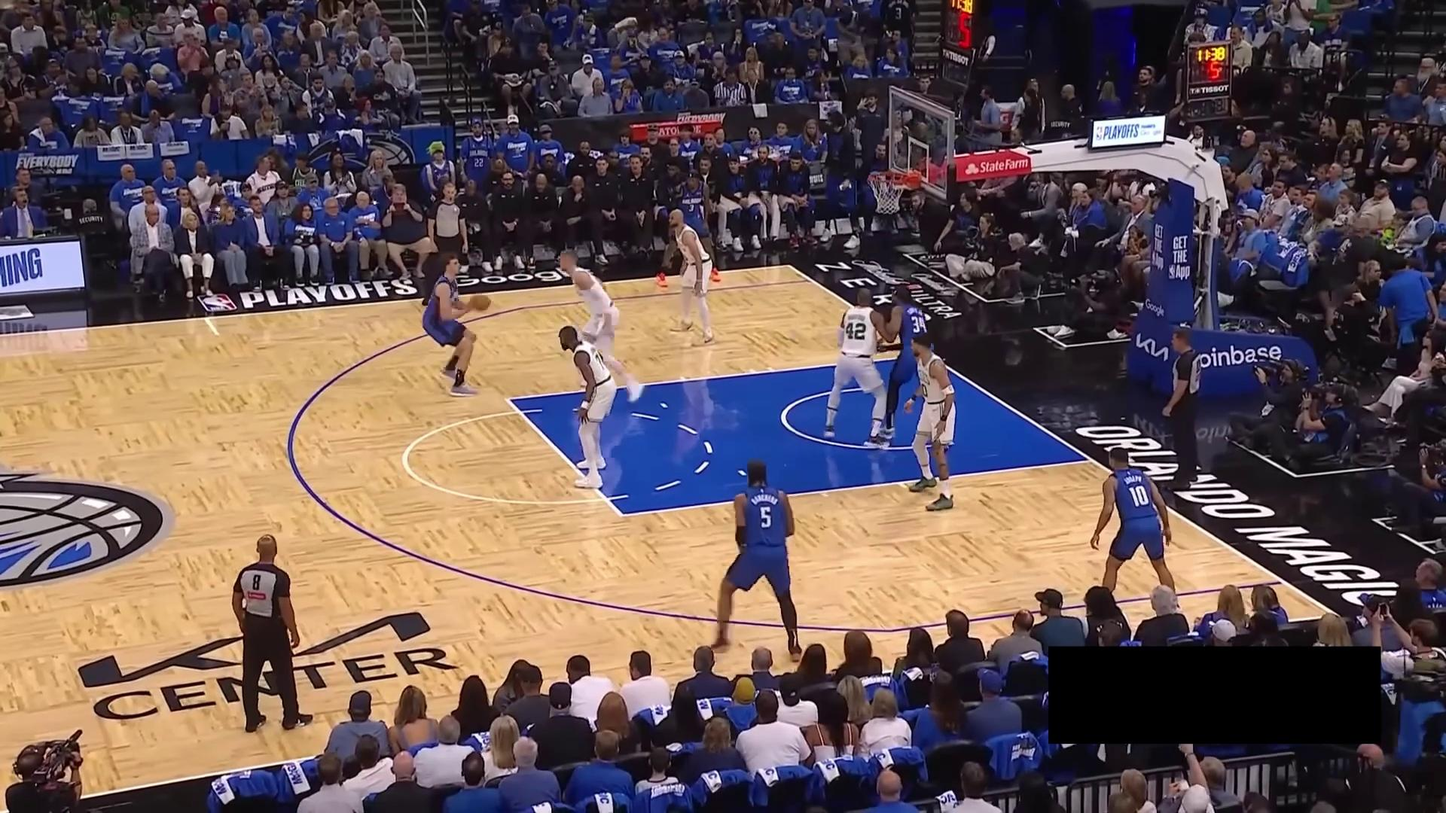ball: (471, 293, 491, 312)
number: (1128, 485, 1149, 507), (846, 321, 867, 341), (759, 506, 772, 529), (910, 315, 926, 333), (594, 353, 606, 371), (921, 383, 929, 398), (688, 202, 695, 213)
player: (706, 457, 804, 663), (1090, 446, 1182, 614), (558, 248, 645, 405), (821, 286, 899, 449), (557, 324, 618, 489), (880, 285, 941, 449), (904, 333, 957, 512), (655, 169, 721, 288), (667, 208, 715, 347)
player-in-possession: (420, 251, 491, 399)
referee: (231, 534, 313, 733), (1161, 327, 1203, 490), (419, 181, 469, 309)
rim: (867, 170, 908, 184)
